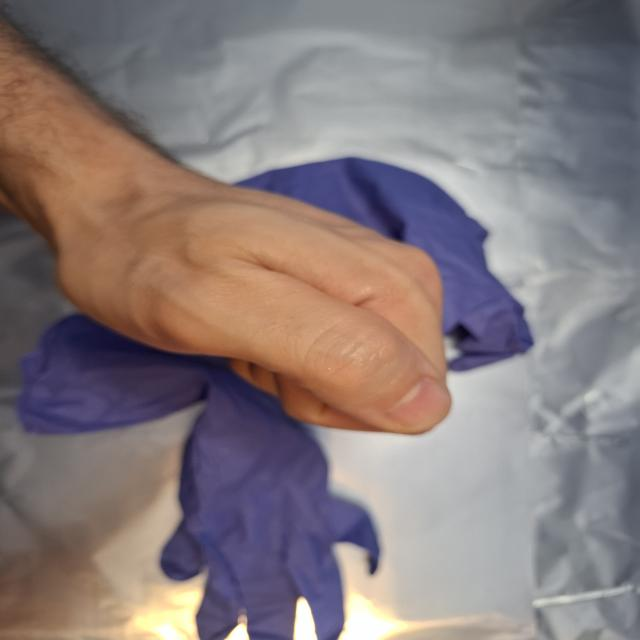glove_off: (39, 158, 459, 438)
